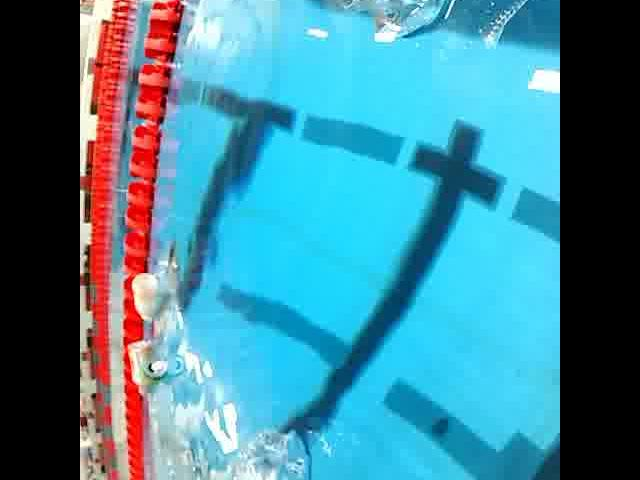Bottle: (331, 0, 541, 47), (128, 264, 166, 328), (126, 334, 156, 398)
Can: (140, 353, 174, 383)
